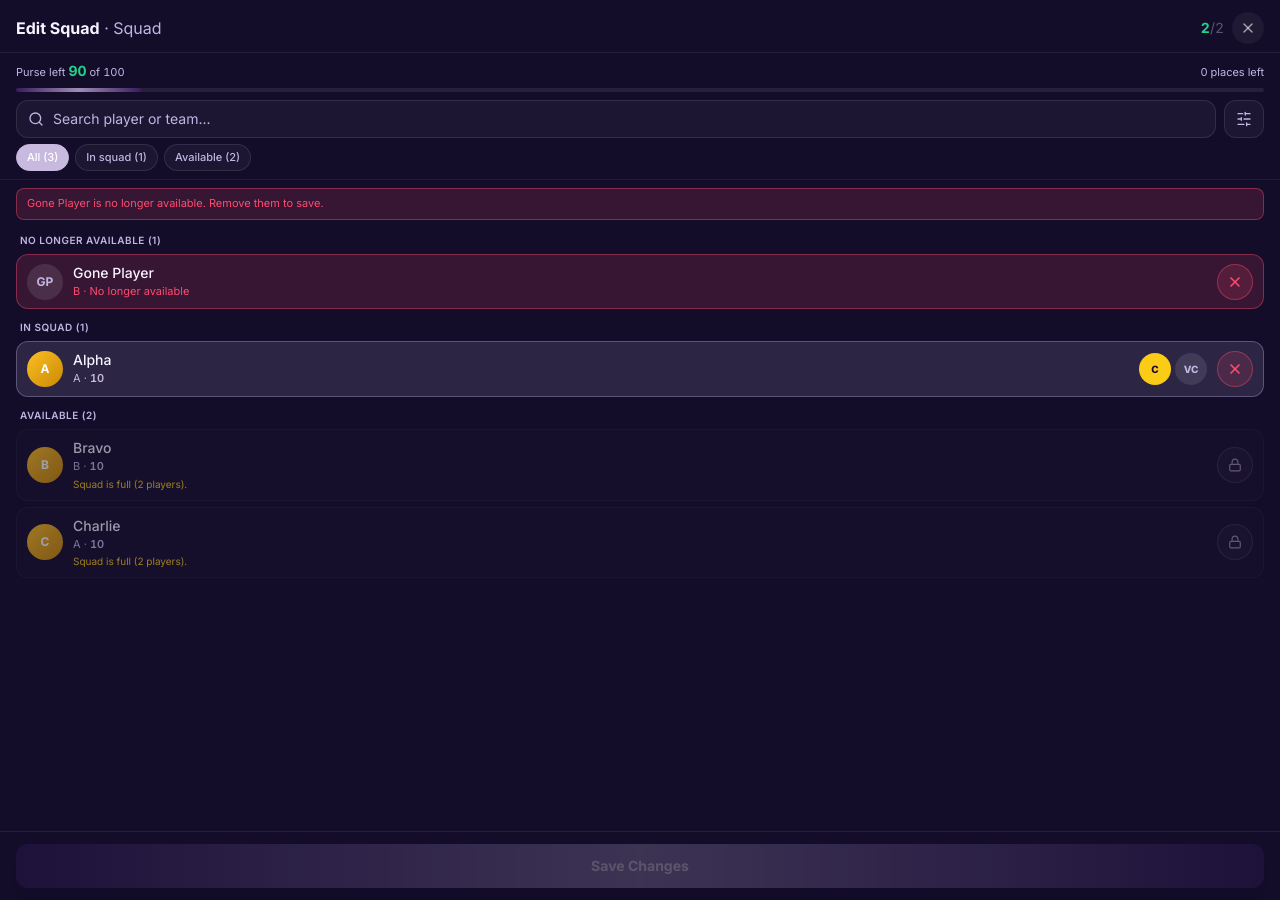
Test: EditPlayersModal with an unavailable squad member › lets the user remove them and pick a replacement
Later steps or results of the test are not shown.
Click the button named "Remove Gone Player from squad" at [1235, 282], box [1217,264,1253,300]
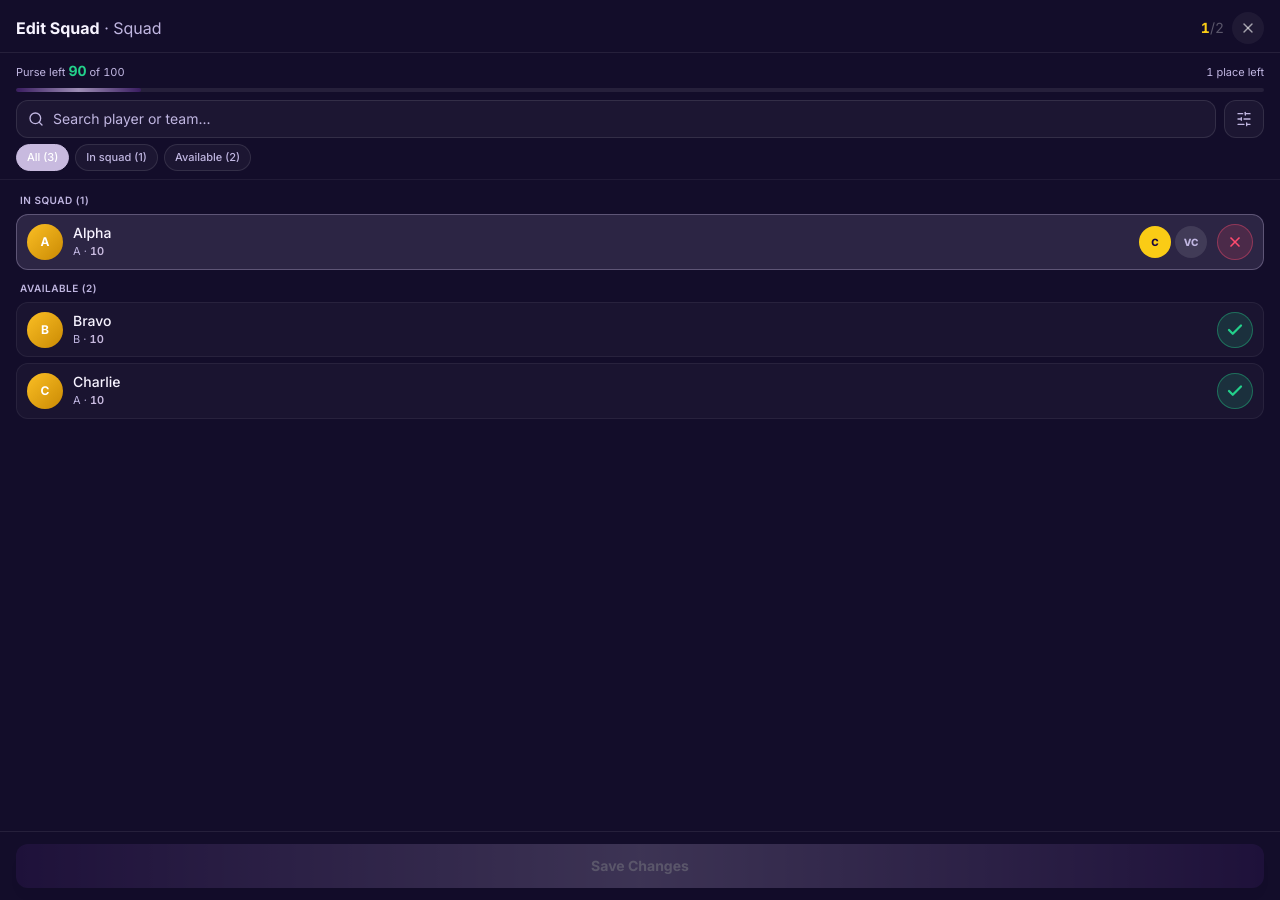
Now the text "Gone Player" is gone
Click the button named "Add Bravo to squad" at [1235, 330], box [1217,312,1253,348]
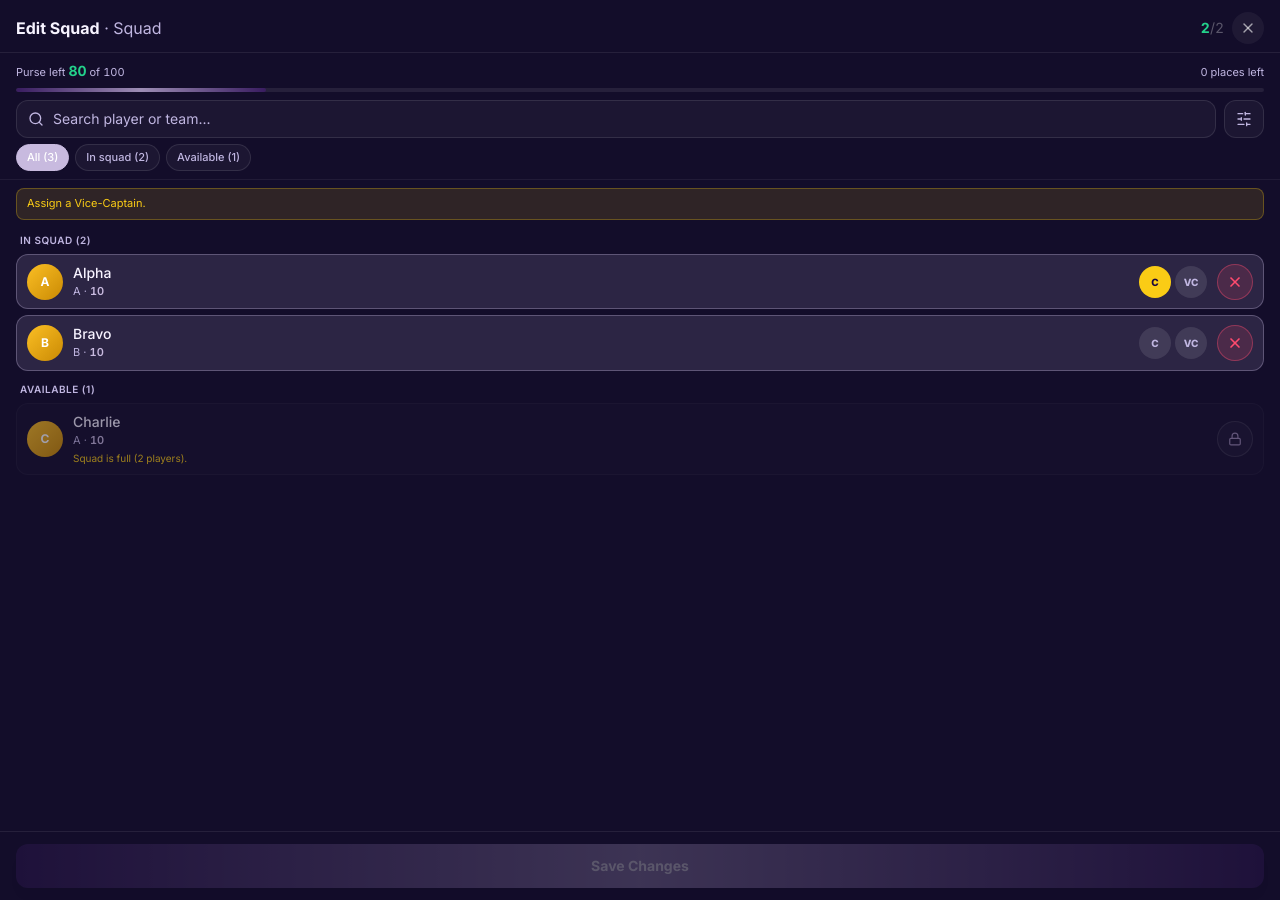
Click the button with aria-label "Make Bravo vice-captain" at [1191, 343], box [1175,327,1207,359]
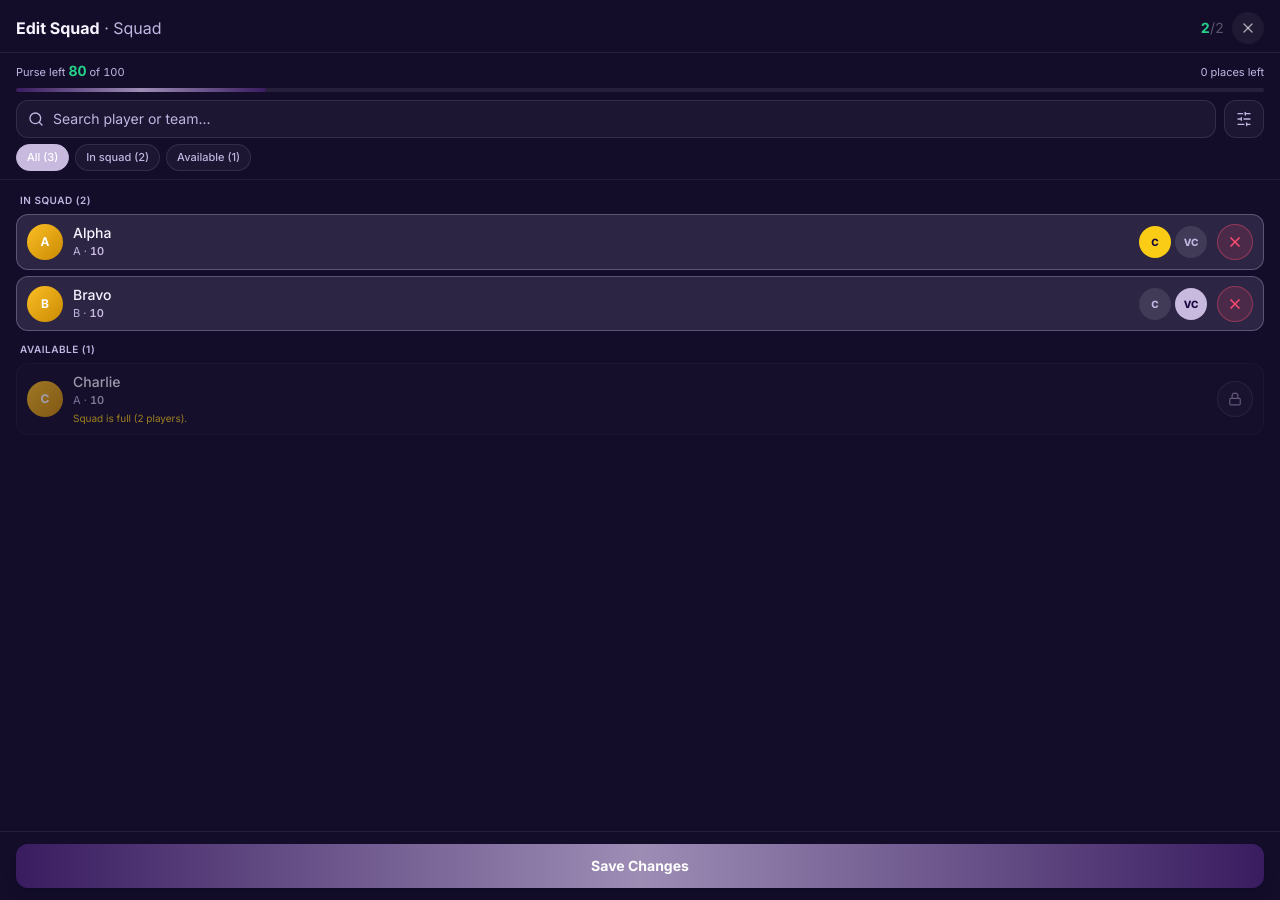
Now the button "Save Changes" is enabled, box [16,844,1264,888]
